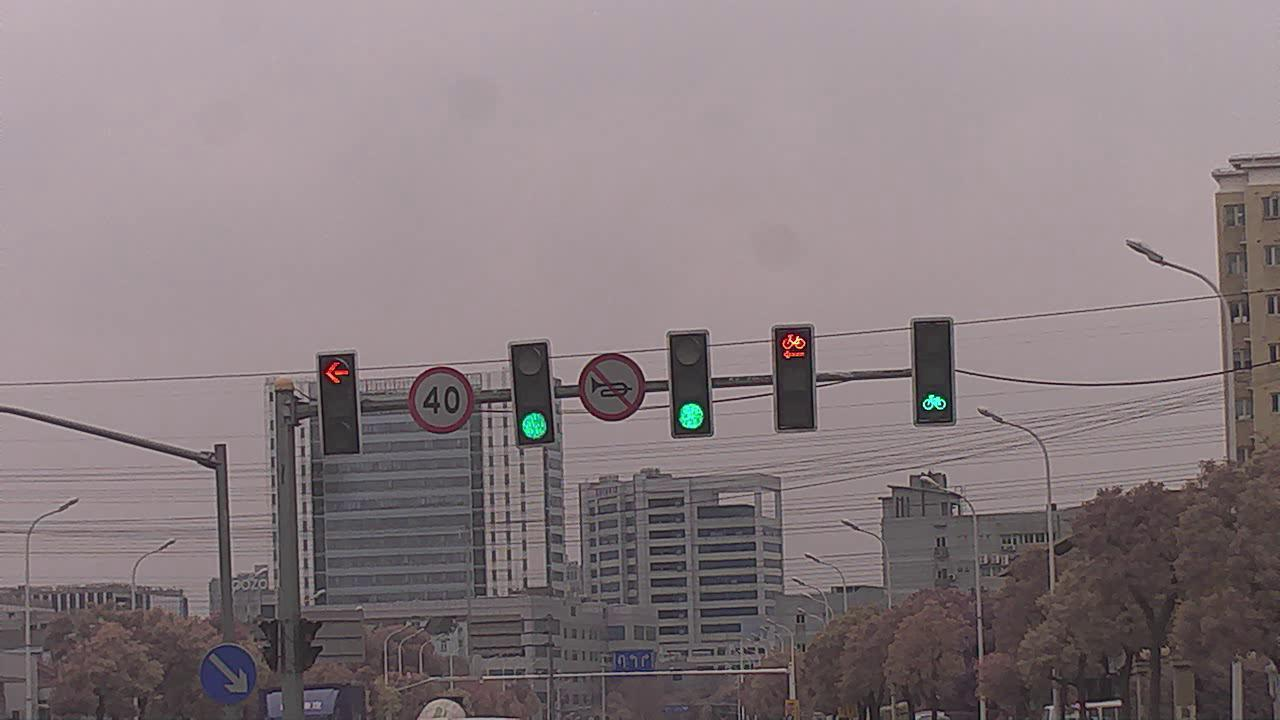traffic_light: (668, 335, 719, 445), (508, 340, 559, 449), (774, 328, 823, 435), (908, 314, 953, 429), (317, 356, 362, 454)
